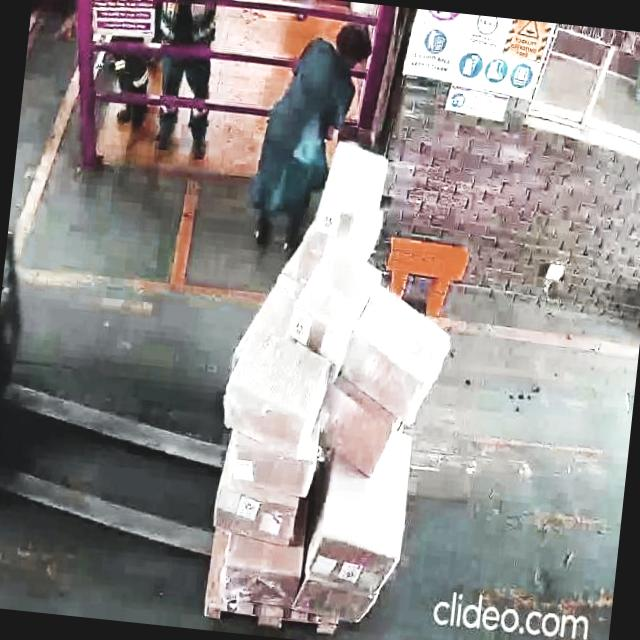Box: (217, 324, 329, 462), (344, 294, 450, 412), (314, 463, 408, 592), (292, 231, 365, 347), (317, 378, 396, 478), (315, 135, 390, 240), (222, 534, 307, 614), (212, 482, 302, 552), (225, 438, 318, 498), (296, 576, 378, 627)
